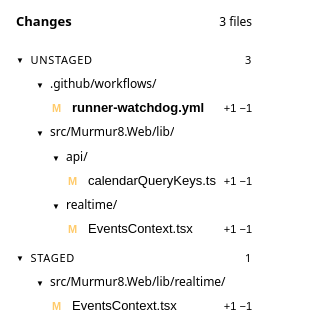
Scenario: ChangesSidebar tree view › clicking a folder folds it in its own group only, without selecting
Click the button "▼ src/Murmur8.Web/lib/" at (144, 132), box [36,119,252,144]
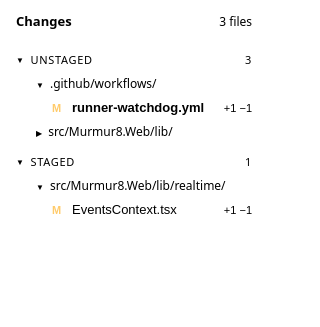
Now the button "▶ src/Murmur8.Web/lib/" is collapsed, box [36,119,252,144]
